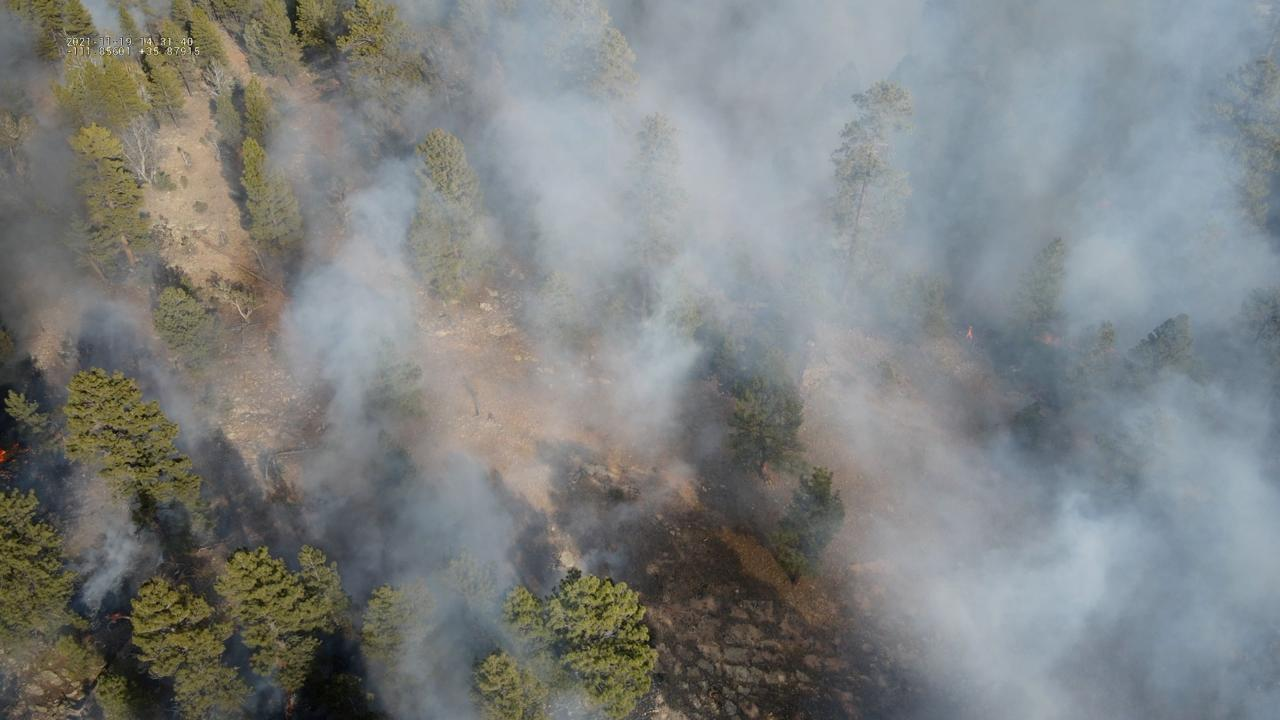fire: (1035, 330, 1056, 346), (963, 325, 976, 342), (0, 447, 11, 467)
smoke: (0, 0, 1280, 720)
